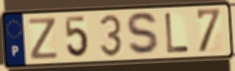3: (96, 12, 124, 58)
5: (64, 15, 90, 60)
7: (196, 7, 224, 56)
L: (163, 12, 191, 55)
S: (125, 11, 163, 58)
Z: (27, 16, 60, 61)
